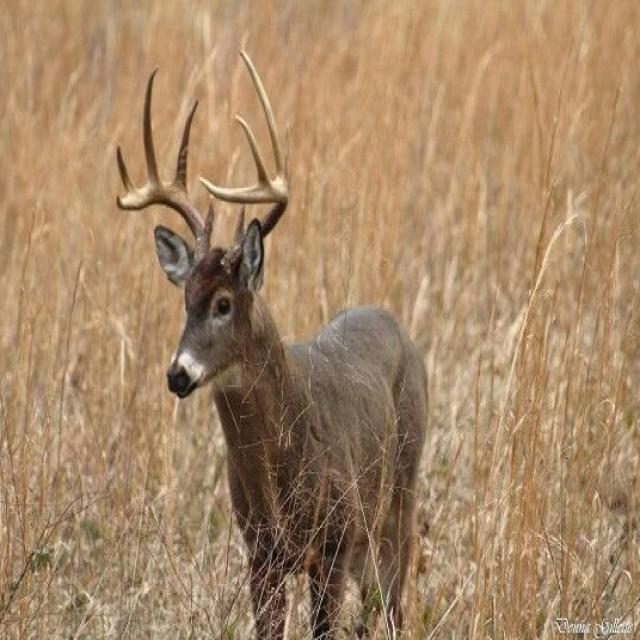L-G1: (233, 205, 247, 245)
L-G3: (239, 50, 285, 184)
L-G4: (234, 113, 272, 188)
R-G1: (204, 196, 214, 241)
R-G2: (172, 99, 199, 195)
R-G3: (143, 68, 162, 186)
R-G4: (115, 143, 136, 195)
